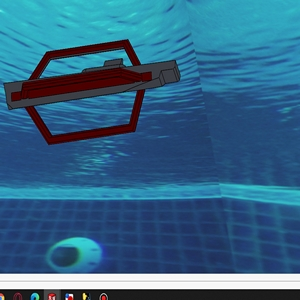submarine: (4, 40, 182, 145)
